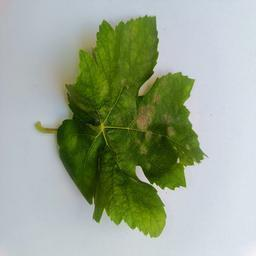Powdery-Mildew: (120, 203, 162, 239), (130, 104, 157, 154), (86, 74, 111, 105), (160, 108, 181, 142), (153, 89, 170, 105)
